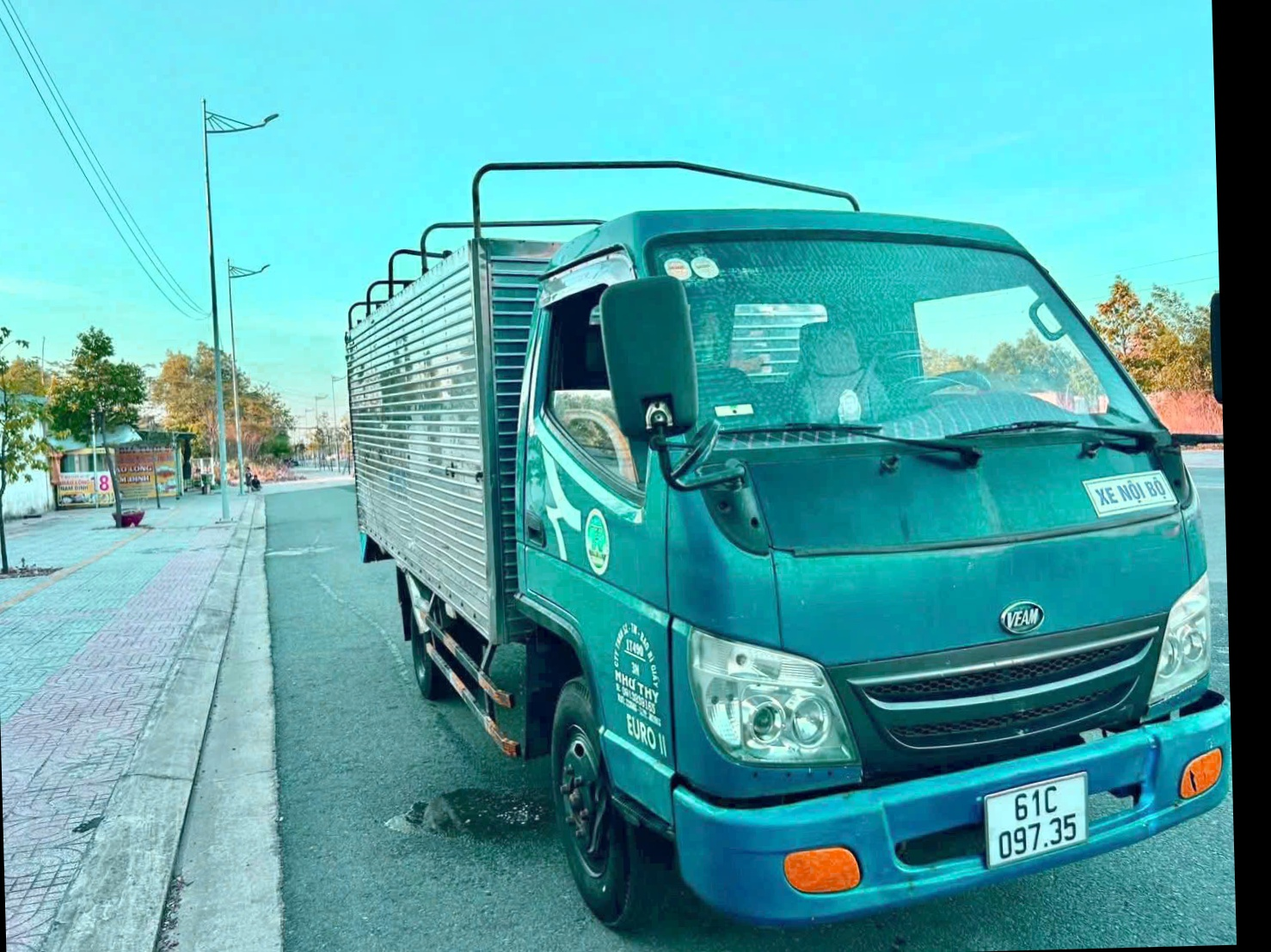Bien-so: (1013, 779, 1126, 882)
